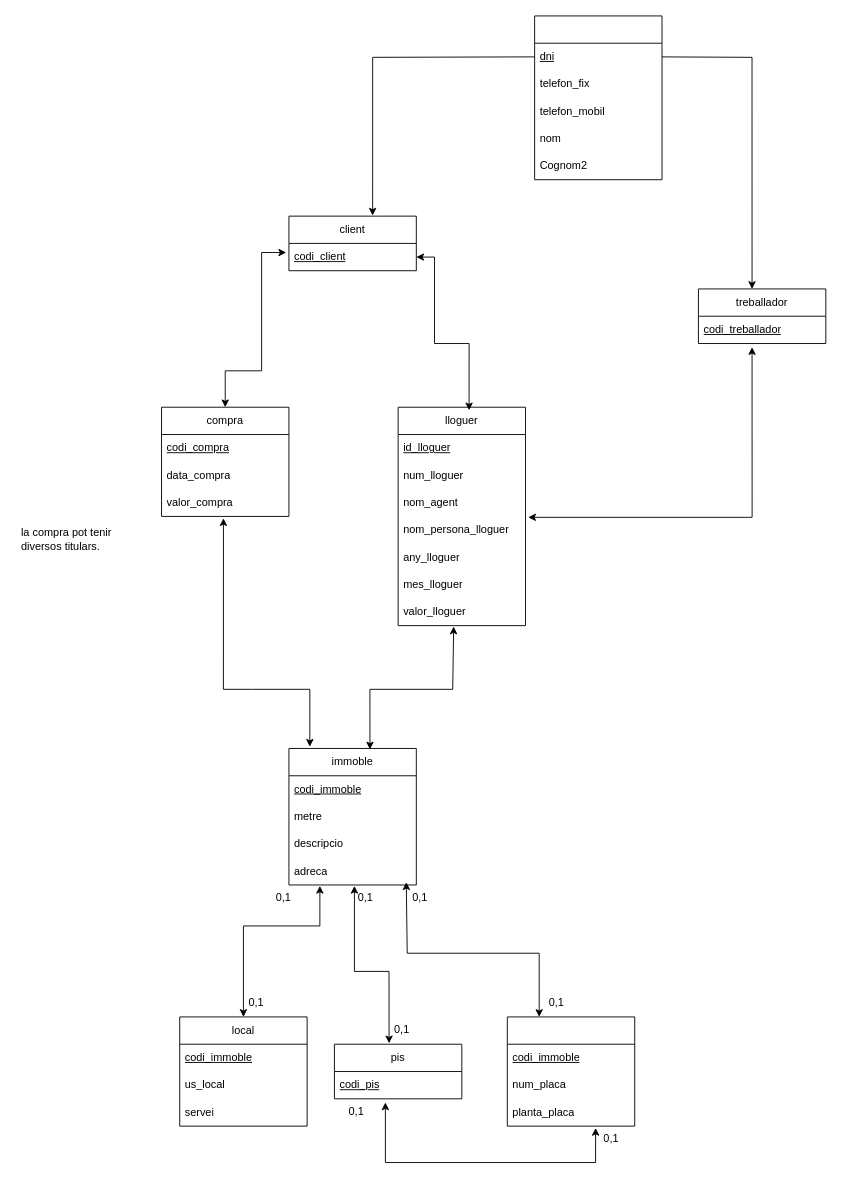
This 842x1187 diagram has some shape labels left out. Here are the shapes that lost their labels. From the top down, the box of each, then its label:
(534, 15, 662, 180): persona
(506, 1016, 635, 1126): placa_parking
